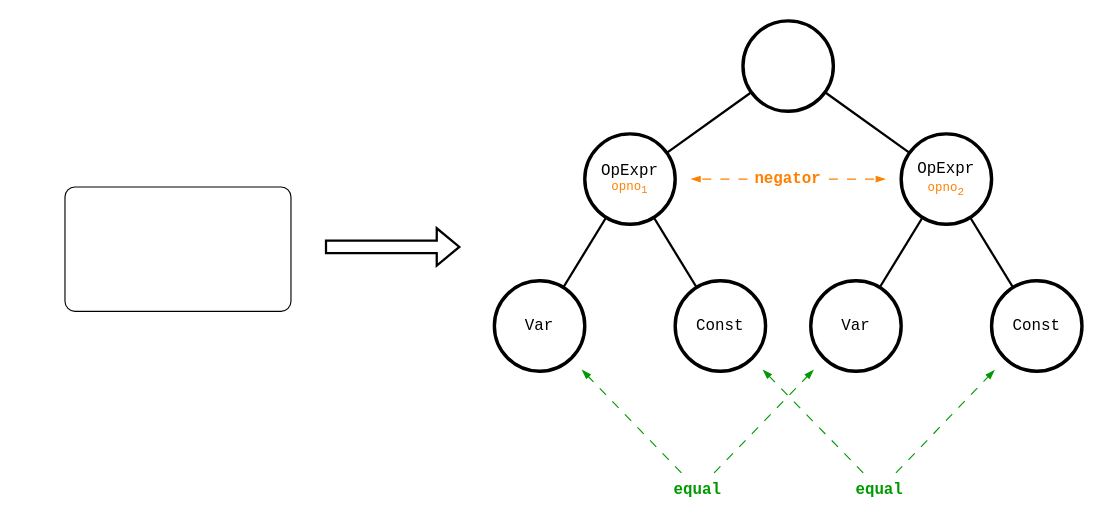
Image size: 1103x527. Some labels were removed from this diagram. The centre of each missing label's shape, as x and y in pixels:
"BoolExpr AND_EXPR" goes at (x=788, y=65).
"SELECT * FROM tbl WHERE value > 0 AND value <= 0" goes at (x=177, y=248).
